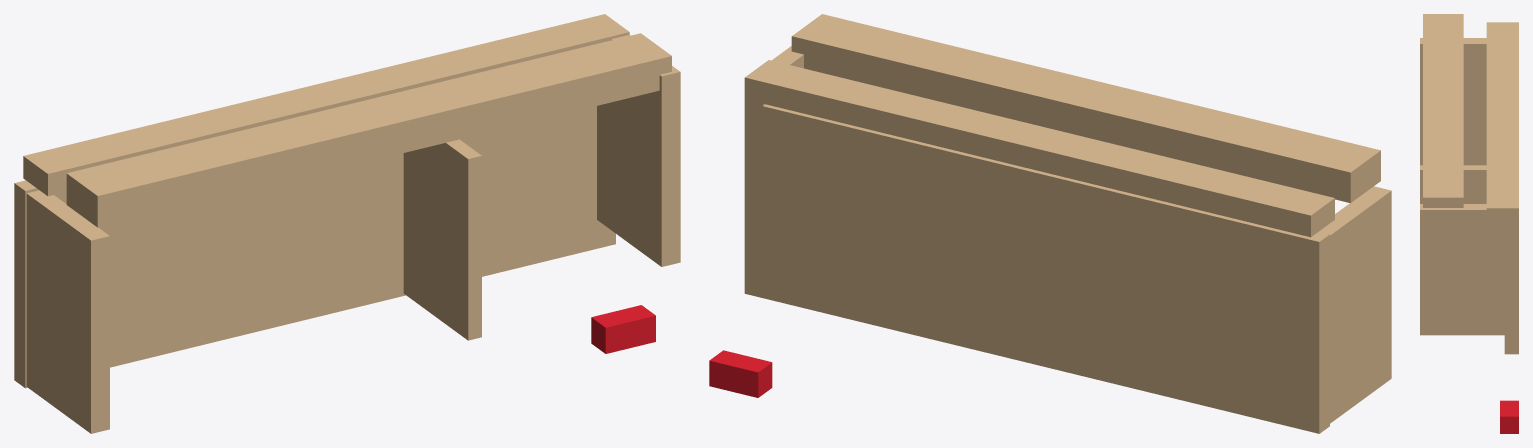
Rendered from tinker.obj.
3 renders of one model, left to right at view 1: azimuth 30°, elevation 25°; view 2: azimuth 150°, elevation 25°; view 3: azimuth 270°, elevation 25°, orthographic. The views are drawn at different scales.
Visible parts, largest first — view 1: group_0_14860437, group_0_15277357; view 2: group_0_14860437, group_0_15277357; view 3: group_0_14860437, group_0_15277357.
Boxes of the visible parts, x1,y1,x2,y2 form: group_0_14860437: (14,14,680,433); group_0_15277357: (591,305,655,353); group_0_14860437: (744,14,1391,433); group_0_15277357: (709,350,772,397); group_0_14860437: (1420,14,1518,354); group_0_15277357: (1500,400,1518,433).
Size of the model in its own units: 499 by 258 by 104.
